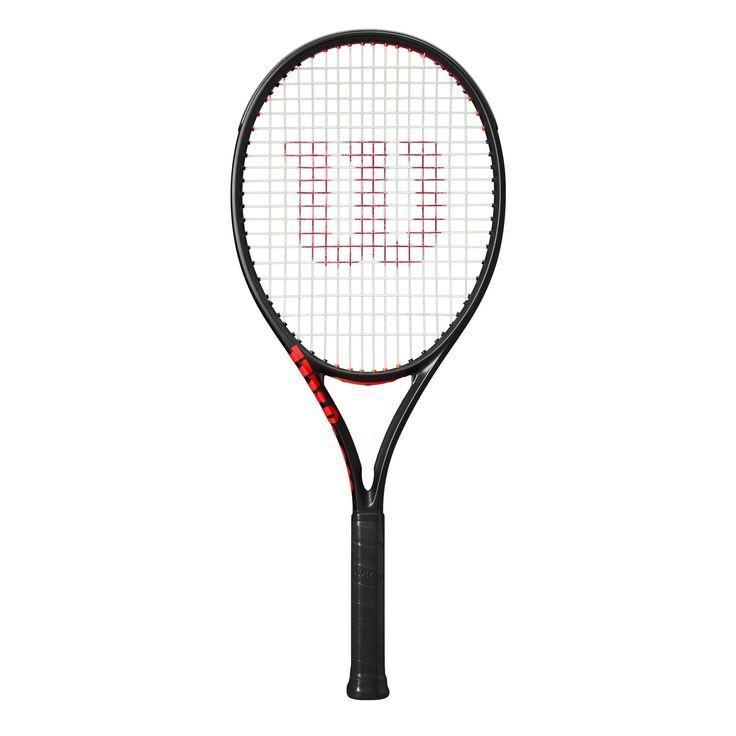Tennis-Racket: (230, 30, 503, 698)
